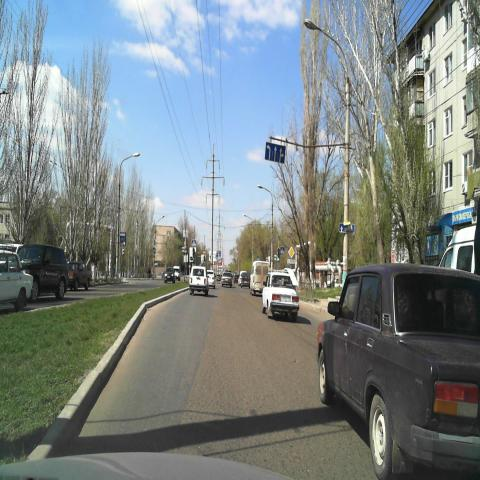6_15_1: (339, 222, 355, 233)
